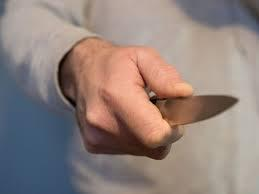Knife: (0, 0, 259, 194), (78, 40, 190, 161), (163, 94, 239, 125)
